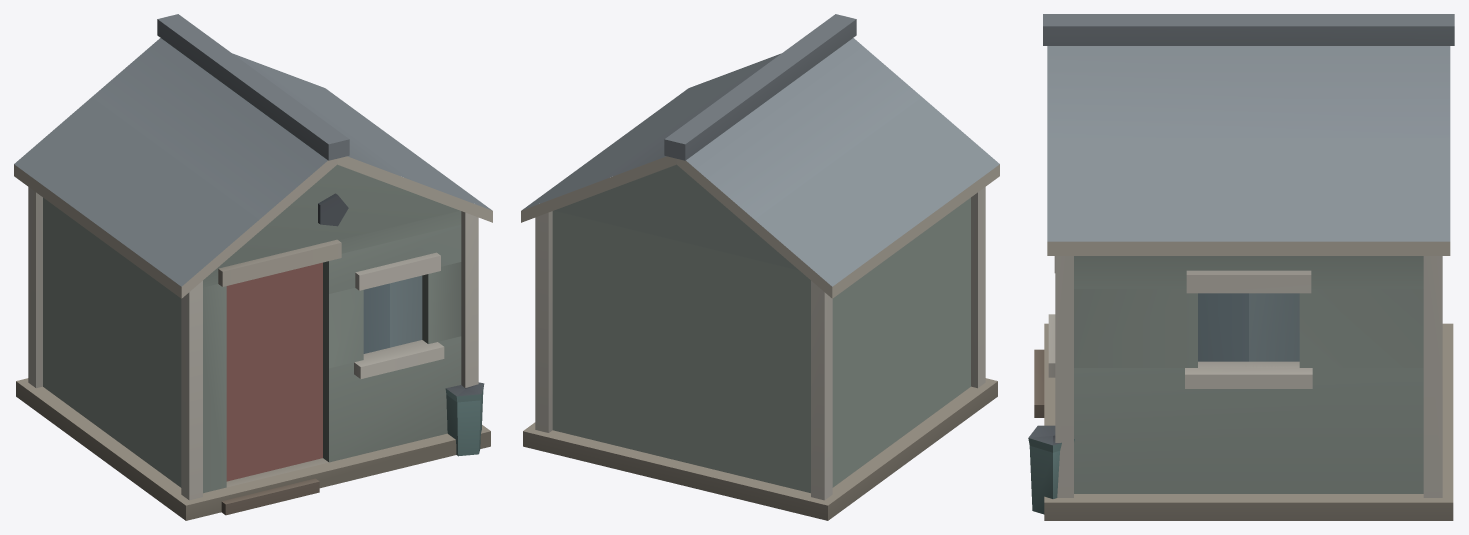
Rendered from shed.lod1.glb.
The picture shows the model from 3 angles, left to right: view 1: azimuth 30°, elevation 25°; view 2: azimuth 150°, elevation 25°; view 3: azimuth 270°, elevation 25°; orthographic projection. The views are drawn at different scales.
Size of the model in its own units: 2.98 by 3.13 by 2.94.
